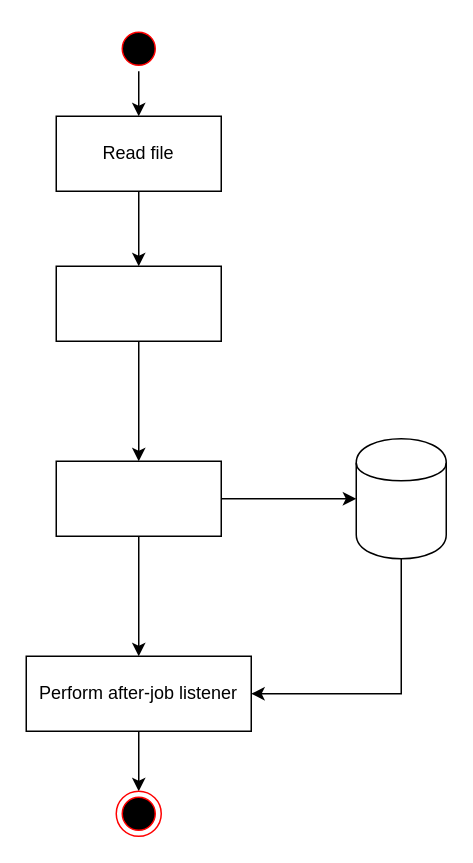
This 473x863 diagram has some shape labels left out. The centre of each missing label's shape, as x and y in pixels:
Process file: pixel 138 303
Write to database: pixel 138 498
